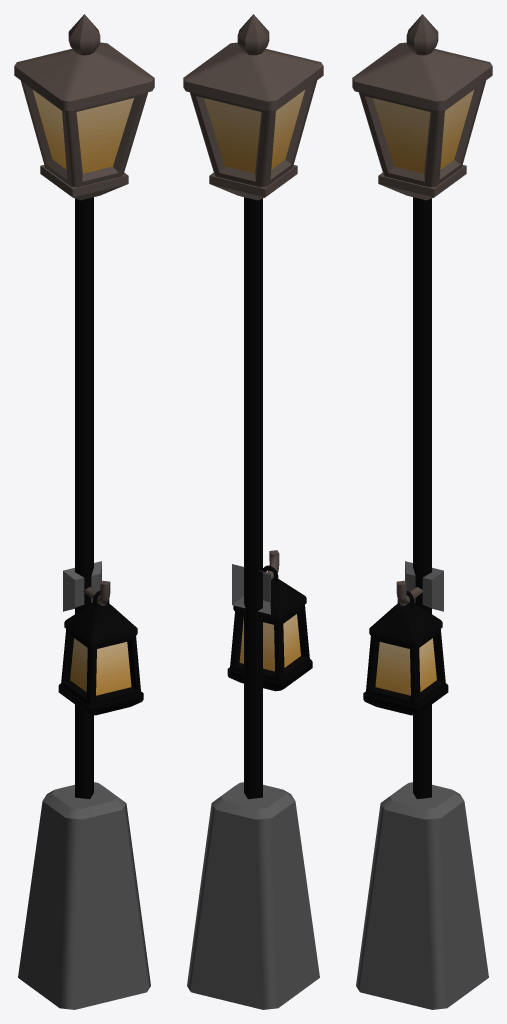
The model's file is Lanterns.fbx.
3 renders of one model, left to right at view 1: azimuth 30°, elevation 25°; view 2: azimuth 150°, elevation 25°; view 3: azimuth 330°, elevation 25°, orthographic.
Parts seen in each view (by area): view 1: Lantern01, Lantern02; view 2: Lantern01, Lantern02; view 3: Lantern01, Lantern02.
Part boxes in pixels (x1,y1,x2,y2): Lantern01: [14, 14, 154, 1009]; Lantern02: [58, 561, 143, 715]; Lantern01: [183, 14, 323, 1009]; Lantern02: [227, 550, 312, 691]; Lantern01: [352, 14, 492, 1009]; Lantern02: [363, 561, 448, 715].
Size of the model in its own units: 37.1 by 368 by 41.18.
